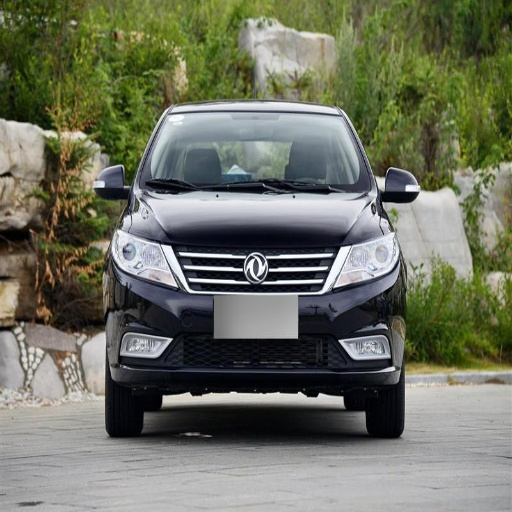front_bumper: (107, 232, 401, 395)
front_right_light: (113, 228, 175, 285)
hood: (129, 188, 383, 245)
left_mirror: (381, 169, 420, 204)
